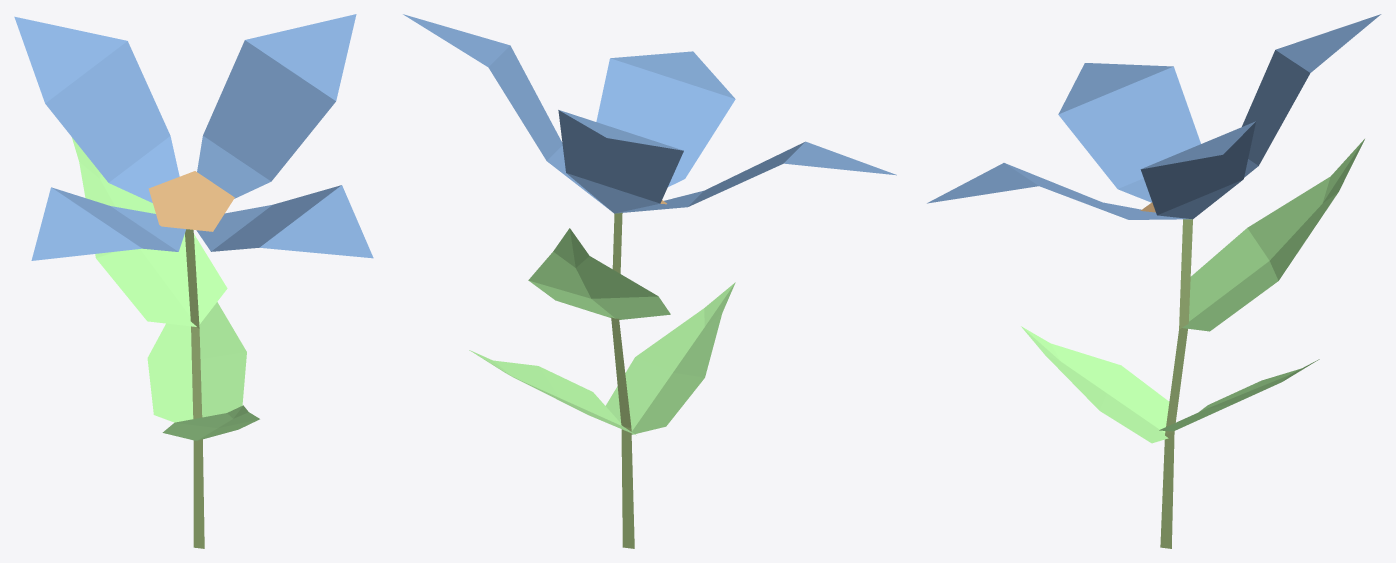
The model's file is Flower_a_TwoS_09.fbx.
3 views of the same model, side by side, from view 1: azimuth 30°, elevation 25°; view 2: azimuth 150°, elevation 25°; view 3: azimuth 270°, elevation 25° (orthographic). The views are drawn at different scales.
Parts seen in each view (by area): view 1: Flower_a_TwoS_09; view 2: Flower_a_TwoS_09; view 3: Flower_a_TwoS_09.
Part boxes in pixels (box(x1,y1,x2,y2)): Flower_a_TwoS_09: box(14, 14, 373, 548); Flower_a_TwoS_09: box(403, 14, 896, 548); Flower_a_TwoS_09: box(927, 14, 1381, 548).
Bounding box in the file's own units: 54.42 × 63 × 52.87.
